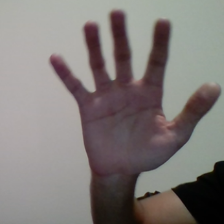left: (47, 4, 224, 168)
